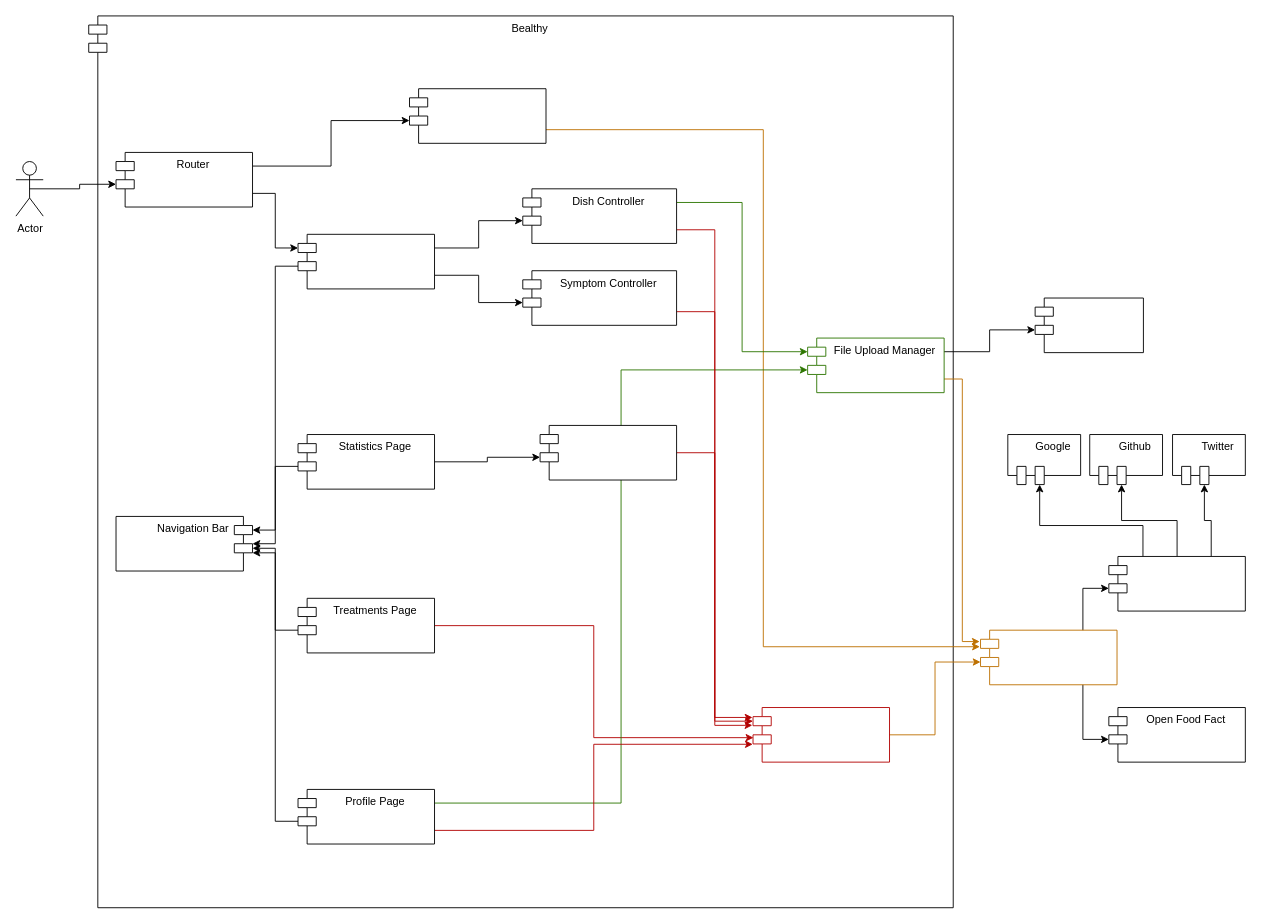
Some shapes in this 1261 by 924 pixel diagram are drawn without their labels. Each missing label, with the centre of its shape:
"Android Camera" goes at [1088,325].
"External Services" goes at [1048,657].
"Firebase" goes at [1176,583].
"Graphs Controller" goes at [608,452].
"Home Page" goes at [366,261].
"Login" goes at [477,115].
"MobX Stores" goes at [821,734].
